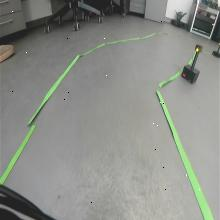green: (194, 44, 202, 52)
